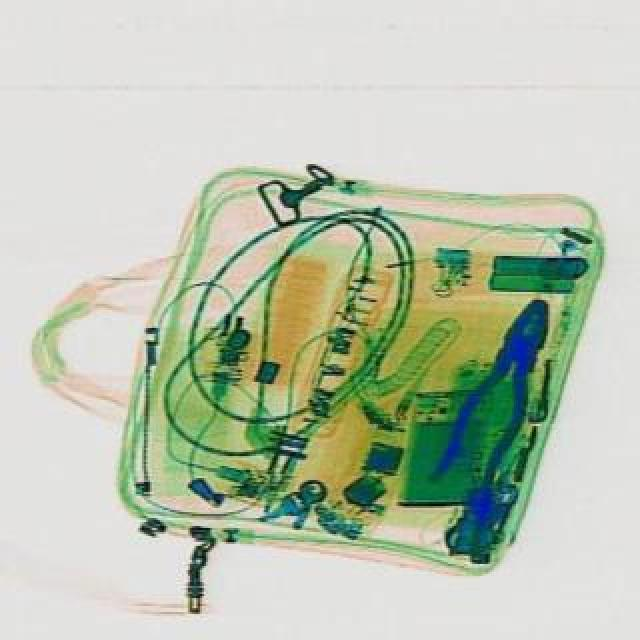wrench: (424, 288, 570, 504)
